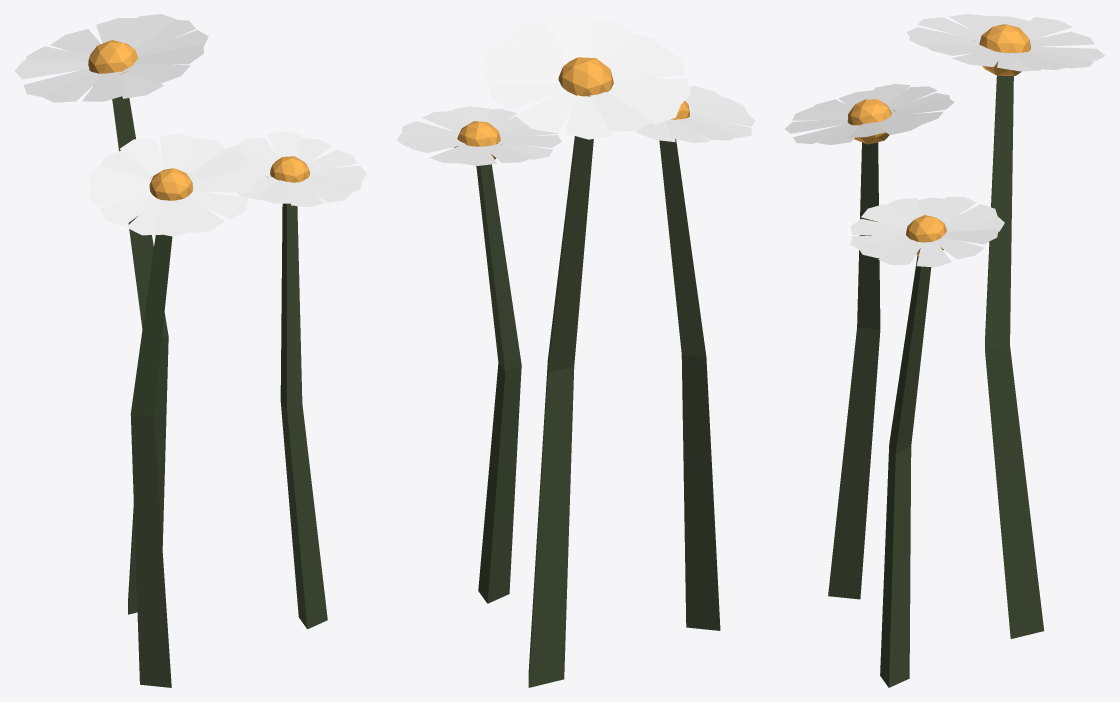
The model's file is Flower-tall-yellow.fbx.
3 views of the same model, side by side, from view 1: azimuth 30°, elevation 25°; view 2: azimuth 150°, elevation 25°; view 3: azimuth 270°, elevation 25° (orthographic). The views are drawn at different scales.
Parts seen in each view (by area): view 1: Flower-tall-yellow; view 2: Flower-tall-yellow; view 3: Flower-tall-yellow.
Part boxes in pixels (x1=…): Flower-tall-yellow: x1=14, y1=14, x2=366, y2=687; Flower-tall-yellow: x1=396, y1=14, x2=755, y2=687; Flower-tall-yellow: x1=785, y1=14, x2=1105, y2=687.
Size of the model in its own units: 15.22 by 29.12 by 14.35.
